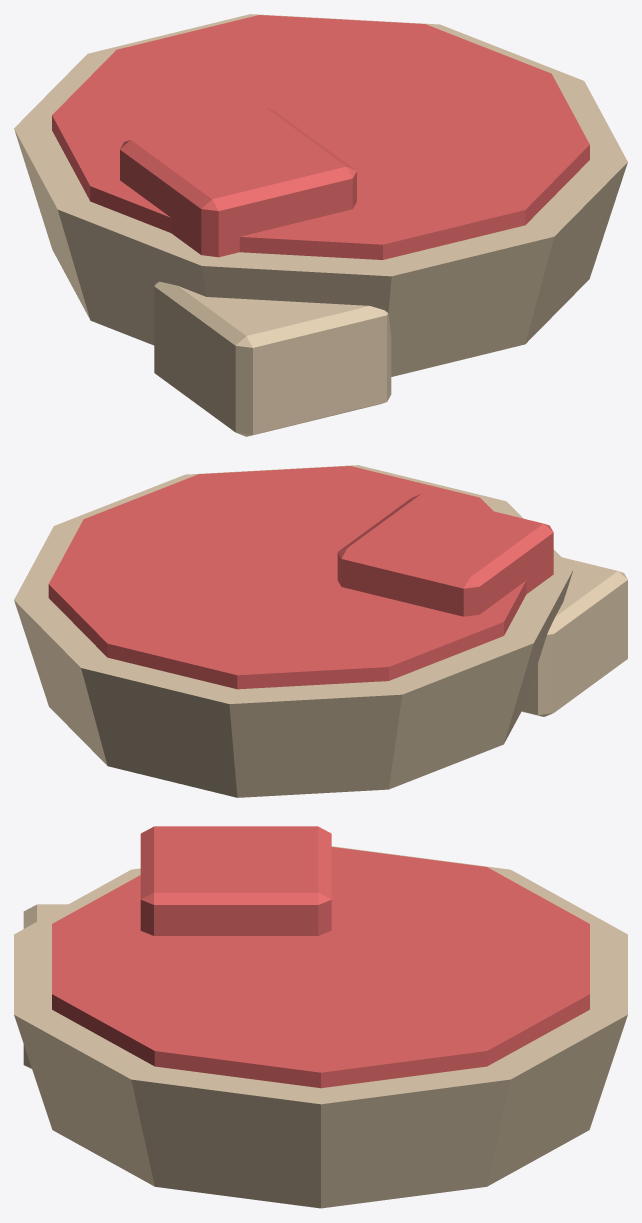
The model's file is b16_discarded_crown_bottle_cap.glb.
3 views of the same model, one above another, from view 1: azimuth 30°, elevation 25°; view 2: azimuth 150°, elevation 25°; view 3: azimuth 270°, elevation 25° (orthographic). The views are drawn at different scales.
Visible parts, largest first — view 1: b16_discarded_crown_bottle_cap; view 2: b16_discarded_crown_bottle_cap; view 3: b16_discarded_crown_bottle_cap.
Part boxes in pixels (bbox=[...]): b16_discarded_crown_bottle_cap: bbox=[14, 14, 627, 436]; b16_discarded_crown_bottle_cap: bbox=[14, 465, 627, 797]; b16_discarded_crown_bottle_cap: bbox=[14, 826, 627, 1208].
Bounding box in the file's own units: 0.032 × 0.011 × 0.032.
